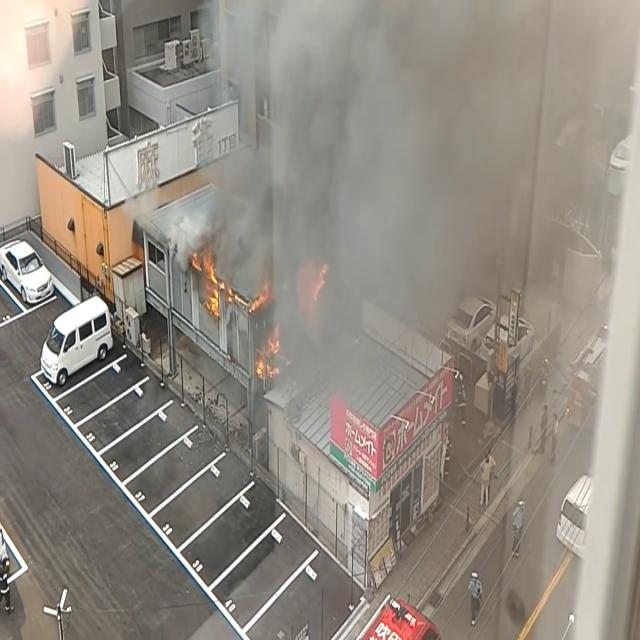Fire: (190, 243, 225, 317)
Smoke: (209, 0, 616, 368)
